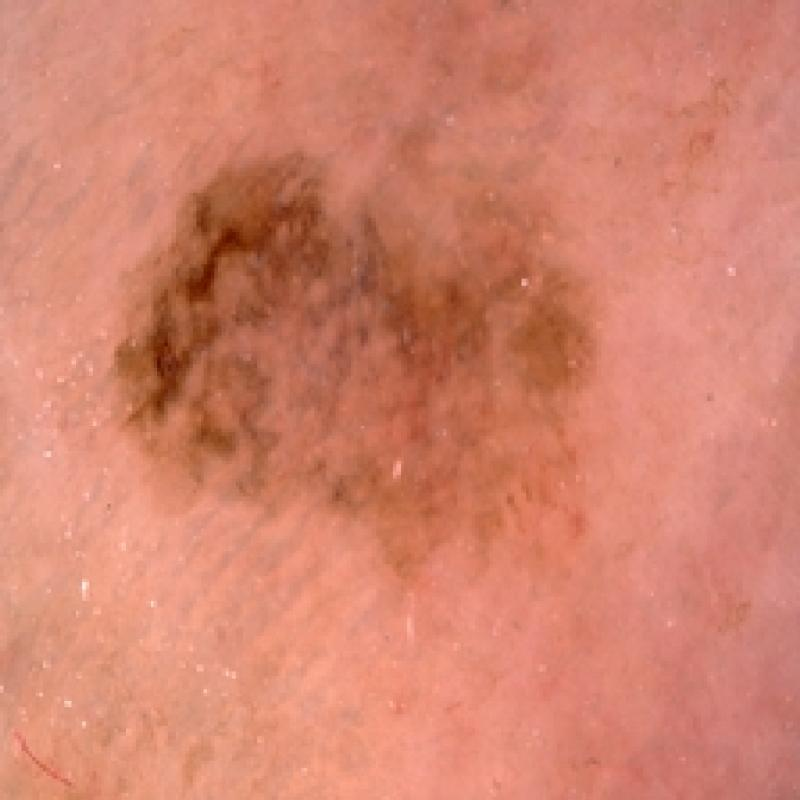malignant: (106, 123, 606, 594)
